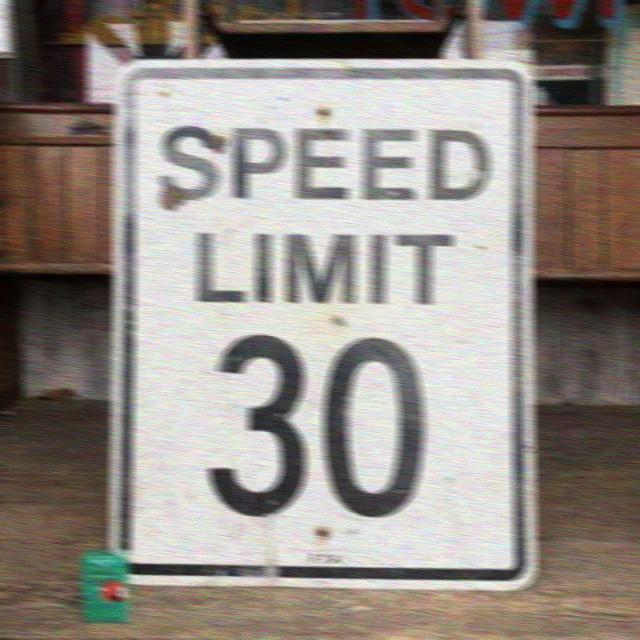speedLimit30: (113, 61, 534, 587)
